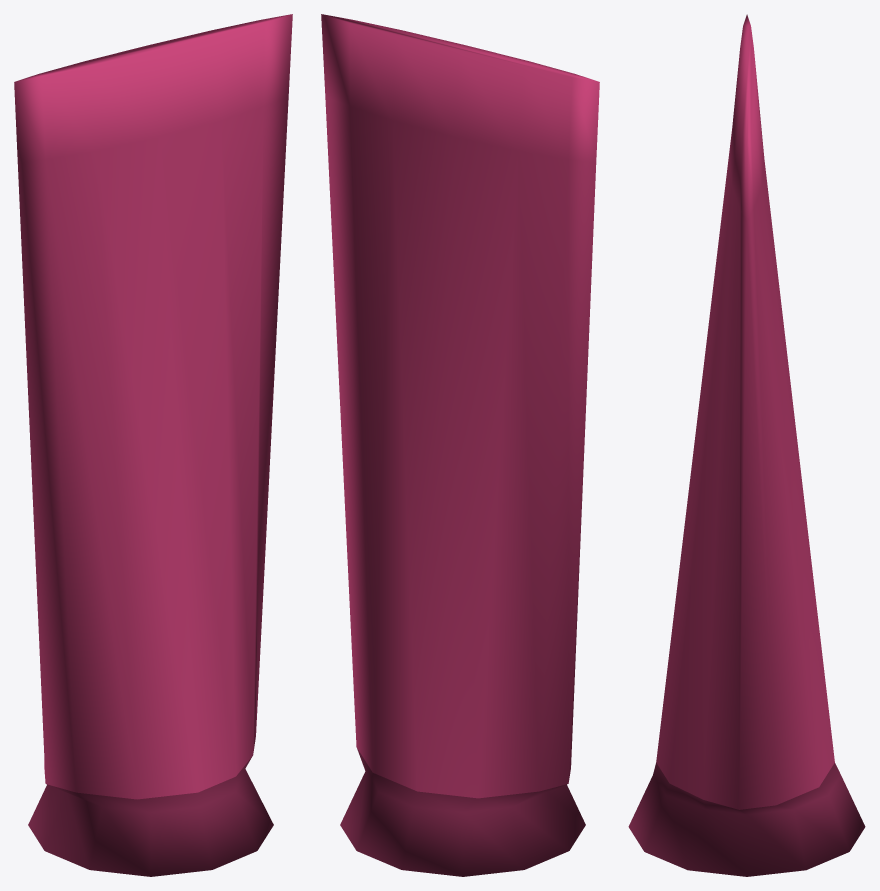
The model's file is Prop_Beauty_01.fbx.
3 renders of one model, left to right at view 1: azimuth 30°, elevation 25°; view 2: azimuth 150°, elevation 25°; view 3: azimuth 270°, elevation 25°, orthographic. The views are drawn at different scales.
Parts seen in each view (by area): view 1: Prop_Beauty_01; view 2: Prop_Beauty_01; view 3: Prop_Beauty_01.
Part boxes in pixels (left/top/right/bottom): Prop_Beauty_01: left=14, top=14, right=292, bottom=876; Prop_Beauty_01: left=321, top=14, right=599, bottom=876; Prop_Beauty_01: left=628, top=14, right=865, bottom=876.
Bounding box in the file's own units: 8.99 × 23.93 × 6.87.
